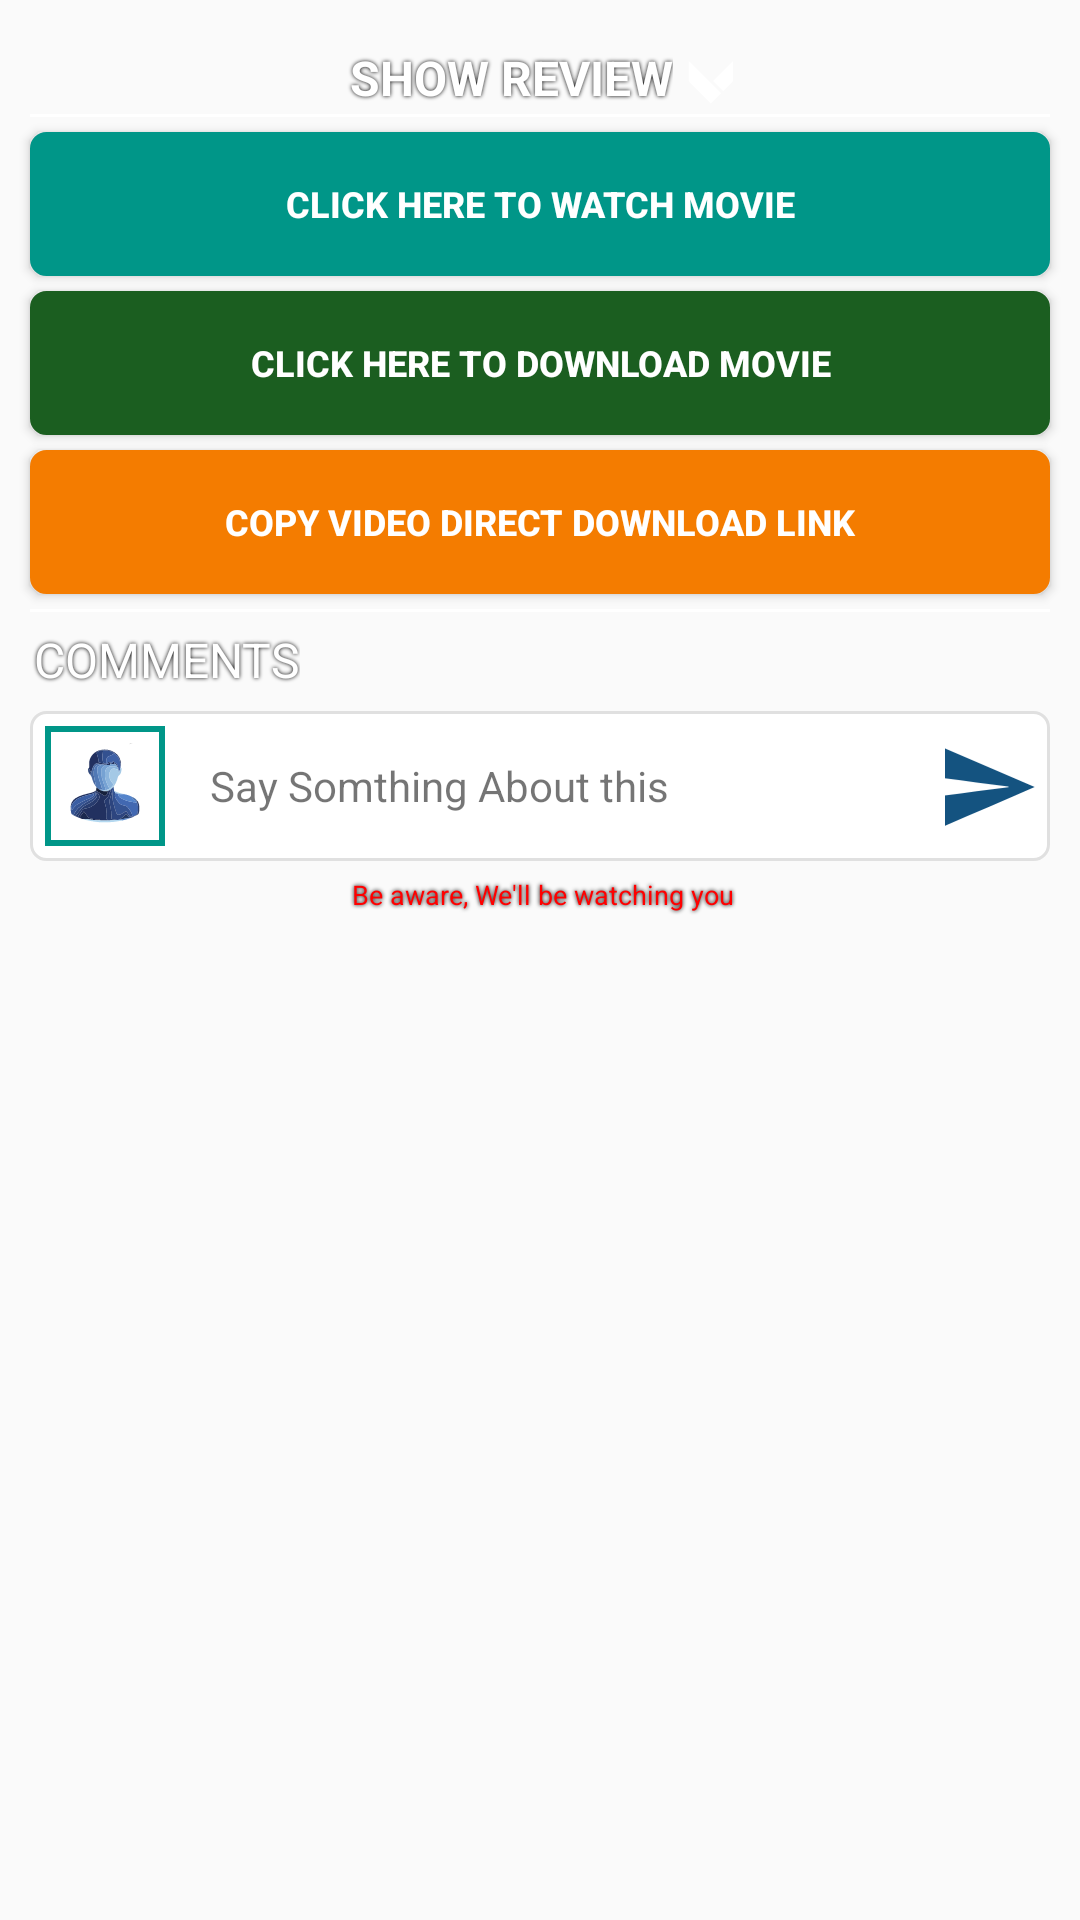

Icons on this 1080×1920 Android screen, each with its box as {"x1": x1, "y1": y1, "x2": x2, "y2": y2}:
send: {"x1": 945, "y1": 748, "x2": 1034, "y2": 826}
user: {"x1": 51, "y1": 732, "x2": 159, "y2": 840}
